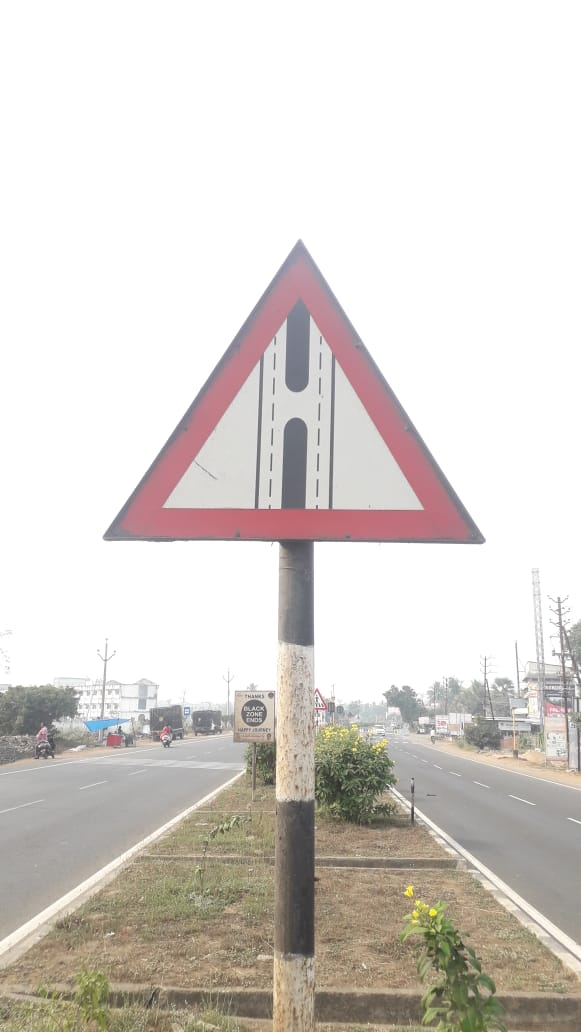highway go straight: (102, 218, 509, 610)
